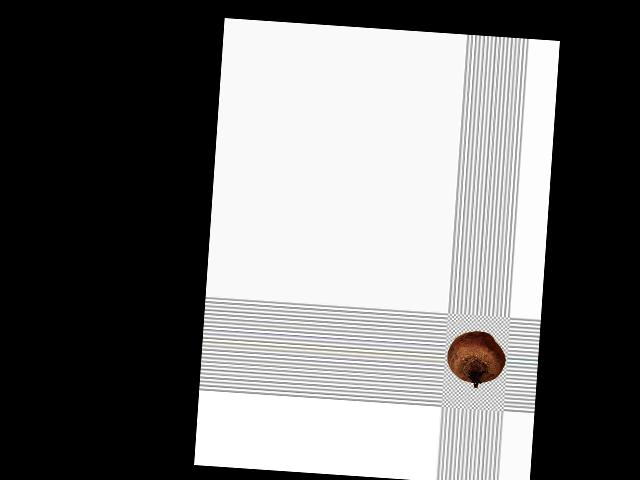beet: (446, 329, 507, 390)
